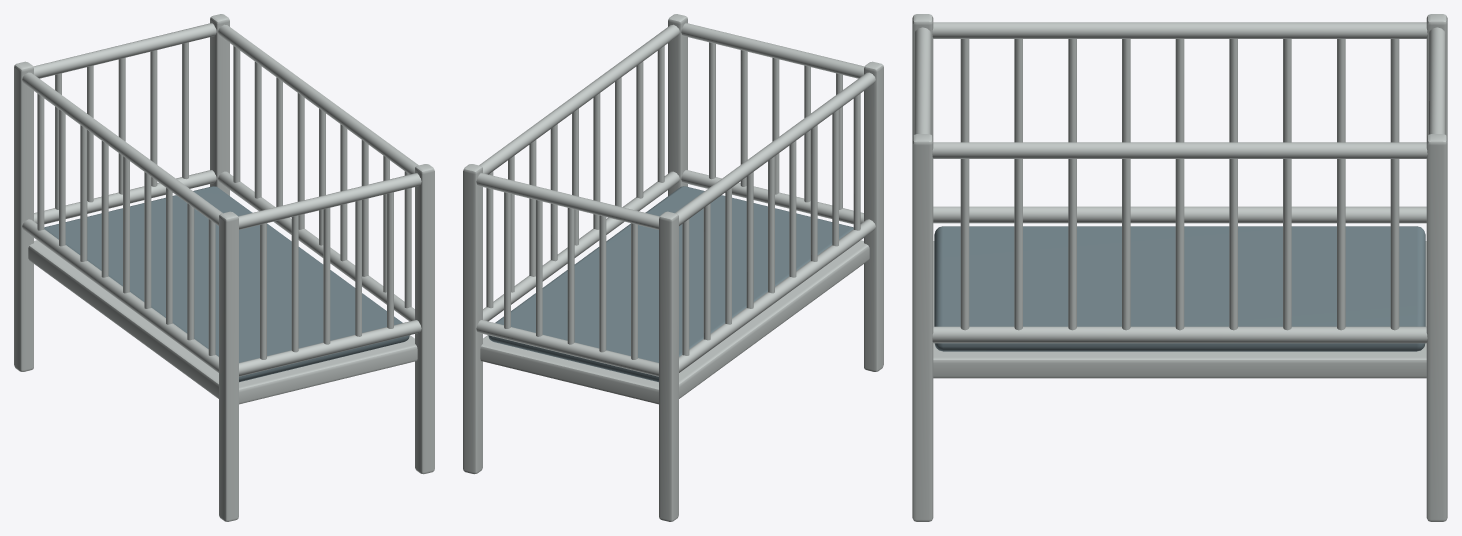
File: crib.glb
The picture shows the model from 3 angles, left to right: view 1: azimuth 30°, elevation 25°; view 2: azimuth 150°, elevation 25°; view 3: azimuth 270°, elevation 25°; orthographic projection. The views are drawn at different scales.
Visible parts, largest first — view 1: crib_mattress, mattress_support, crib_post.001, crib_post.003, crib_post, side_rail.001, side_rail.003, crib_post.002, side_rail, end_rail.003, end_rail.001, end_rail.002 (+30 smaller); view 2: crib_mattress, mattress_support, crib_post, crib_post.002, crib_post.001, side_rail.001, side_rail.003, crib_post.003, side_rail, end_rail.001, end_rail.003, end_rail (+30 smaller); view 3: crib_mattress, mattress_support, side_rail.002, crib_post.002, crib_post.003, side_rail.001, side_rail.003, side_rail, end_rail.001, end_rail.003, crib_spindle.009, crib_spindle.013 (+18 smaller).
Boxes of the visible parts, x1,y1,x2,y2 form: crib_mattress: (44,186,409,382); mattress_support: (28,240,417,404); crib_post.001: (219,211,238,521); crib_post.003: (415,164,434,474); crib_post: (14,61,33,371); side_rail.001: (22,72,222,225); side_rail.003: (218,24,418,174); crib_post.002: (210,14,229,195); side_rail: (22,219,218,372); end_rail.003: (238,173,421,229); end_rail.001: (33,23,216,78); end_rail.002: (239,320,421,376); crib_mattress: (488,186,853,382); mattress_support: (480,240,869,404); crib_post: (659,211,678,521); crib_post.002: (463,164,482,474); crib_post.001: (864,61,883,371); side_rail.001: (675,72,875,225); side_rail.003: (479,24,679,174); crib_post.003: (668,14,687,195); side_rail: (679,219,875,372); end_rail.001: (476,173,659,229); end_rail.003: (681,23,864,78); end_rail: (476,320,658,376); crib_mattress: (934,226,1425,351); mattress_support: (933,241,1426,378); side_rail.002: (932,326,1427,343); crib_post.002: (1426,134,1447,521); crib_post.003: (912,134,933,521); side_rail.001: (932,22,1427,38); side_rail.003: (932,142,1427,158); side_rail: (933,206,1426,223); end_rail.001: (1428,27,1445,134); end_rail.003: (914,27,931,134); crib_spindle.009: (1390,159,1399,330); crib_spindle.013: (1175,159,1184,330).
Bounding box in the file's own units: 0.795 × 1.1 × 1.4.
